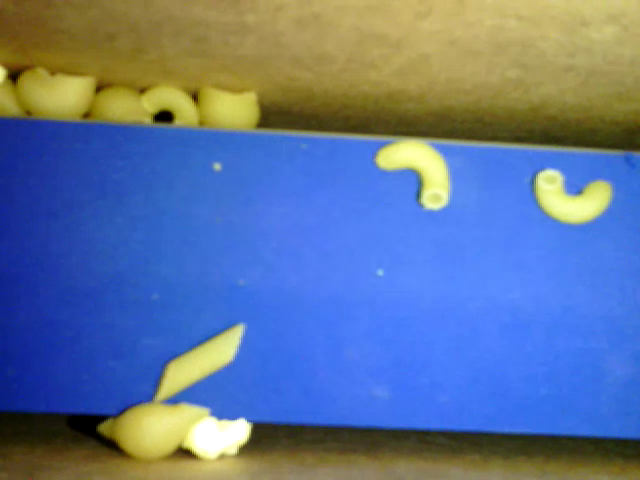elbow: (376, 137, 453, 212), (534, 165, 612, 224), (138, 86, 202, 124)
penne: (152, 322, 244, 404)
shell: (94, 402, 214, 460), (11, 64, 95, 121), (197, 85, 260, 129), (91, 82, 155, 123)
